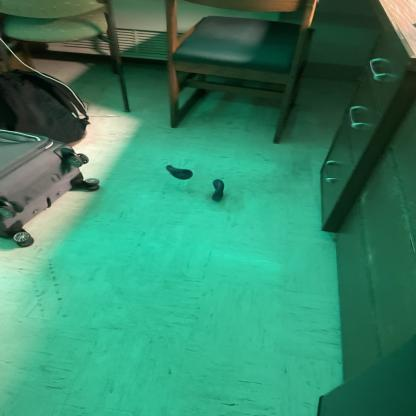ring: (165, 164, 193, 180), (210, 178, 224, 202)
